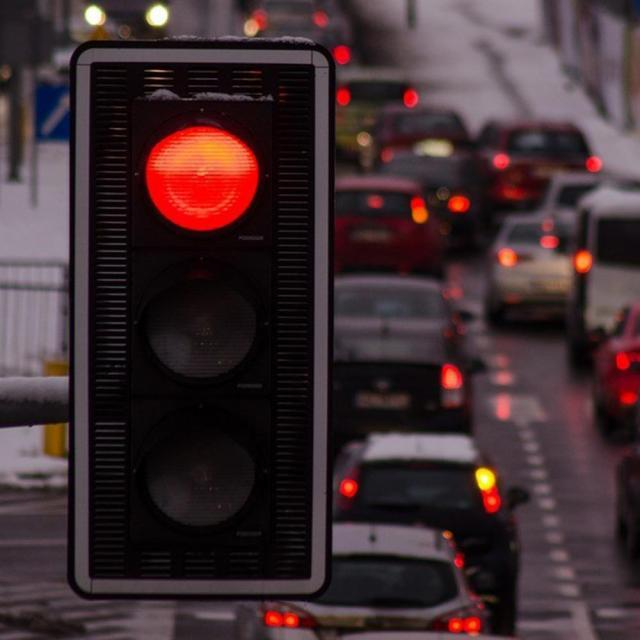red_light: (116, 94, 278, 553)
